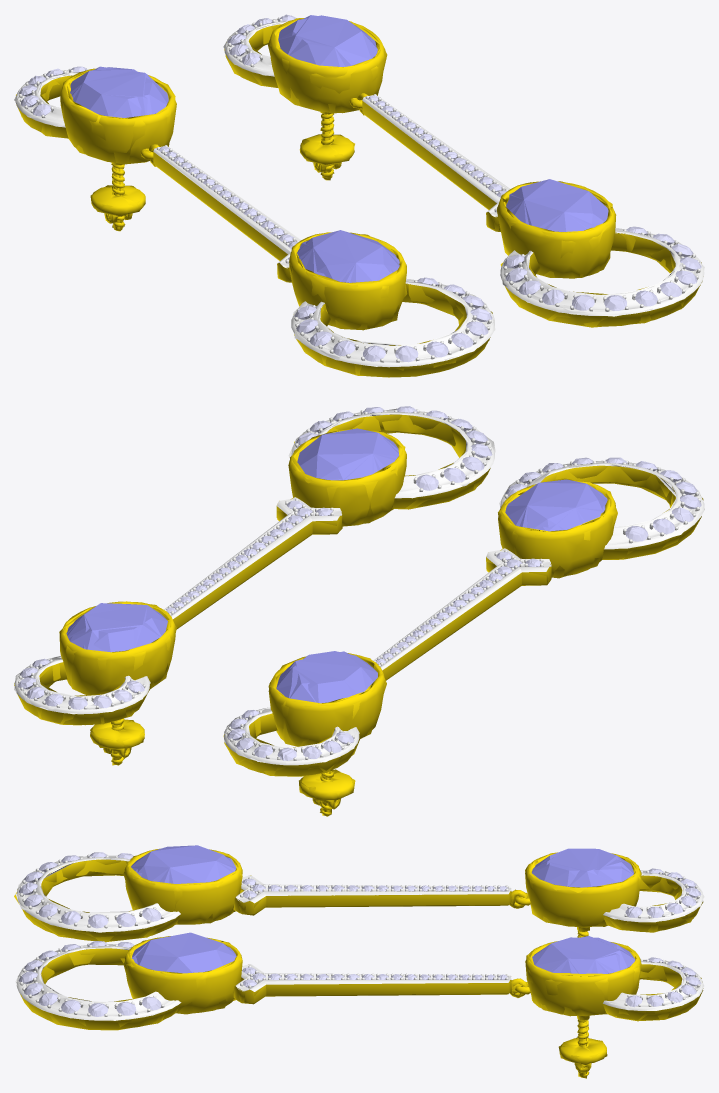
The picture shows the model from 3 angles, top to bottom: view 1: azimuth 30°, elevation 25°; view 2: azimuth 150°, elevation 25°; view 3: azimuth 270°, elevation 25°; orthographic projection. The views are drawn at different scales.
Visible parts, largest first — view 1: highPolyMesh, lowPolyMesh; view 2: highPolyMesh, lowPolyMesh; view 3: highPolyMesh, lowPolyMesh.
Boxes of the visible parts, x1=… form: highPolyMesh: x1=15, y1=15, x2=704, y2=377; lowPolyMesh: x1=14, y1=14, x2=704, y2=375; highPolyMesh: x1=14, y1=407, x2=704, y2=816; lowPolyMesh: x1=14, y1=406, x2=704, y2=815; highPolyMesh: x1=16, y1=845, x2=703, y2=1077; lowPolyMesh: x1=14, y1=845, x2=704, y2=1078.
Bounding box in the file's own units: 0.0365 × 0.0138 × 0.065.
